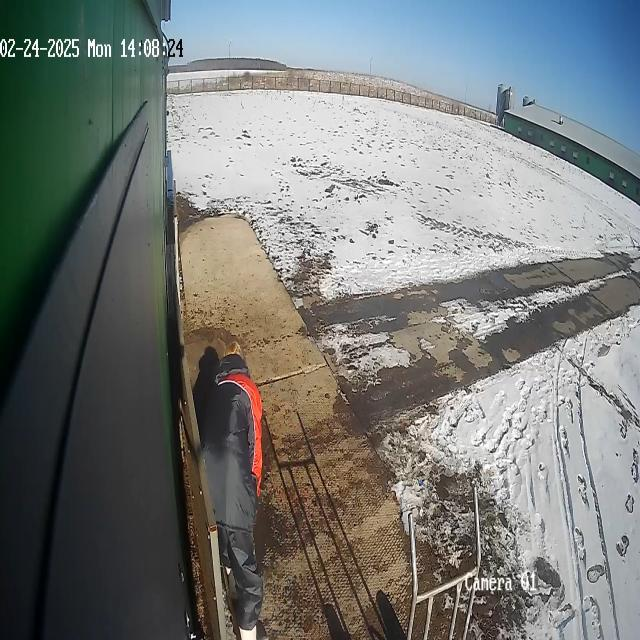Red uniform: (194, 343, 265, 639)
